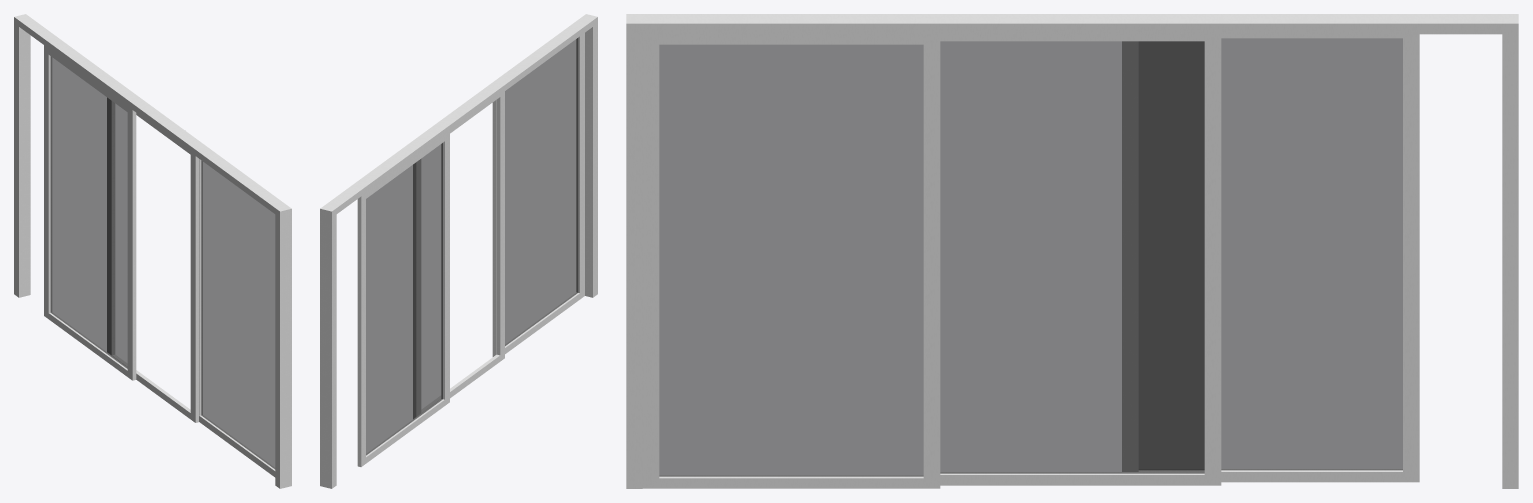
3 renders of one model, left to right at view 1: azimuth 30°, elevation 25°; view 2: azimuth 150°, elevation 25°; view 3: azimuth 270°, elevation 25°, orthographic. The views are drawn at different scales.
Visible parts, largest first — view 1: Mesh3_Sliding_Panel_4_3_Model; view 2: Mesh3_Sliding_Panel_4_3_Model; view 3: Mesh3_Sliding_Panel_4_3_Model.
Boxes of the visible parts, bbox=[...] form: Mesh3_Sliding_Panel_4_3_Model: bbox=[14, 14, 291, 488]; Mesh3_Sliding_Panel_4_3_Model: bbox=[320, 14, 597, 488]; Mesh3_Sliding_Panel_4_3_Model: bbox=[626, 14, 1518, 488].
Bounding box in the file's own units: 0.0446 × 1 × 1.74.
2 materials, 1 textured.
